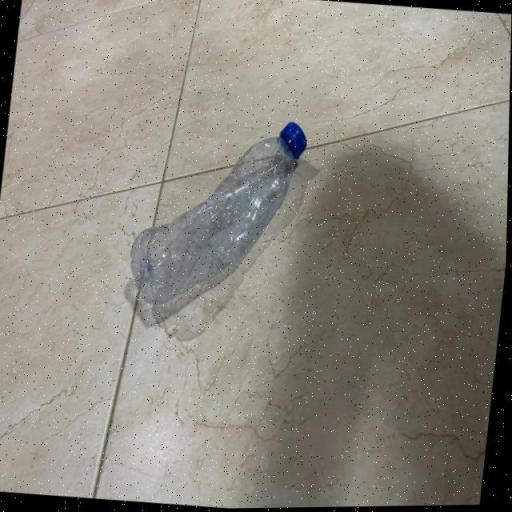plastic: (124, 102, 320, 327)
